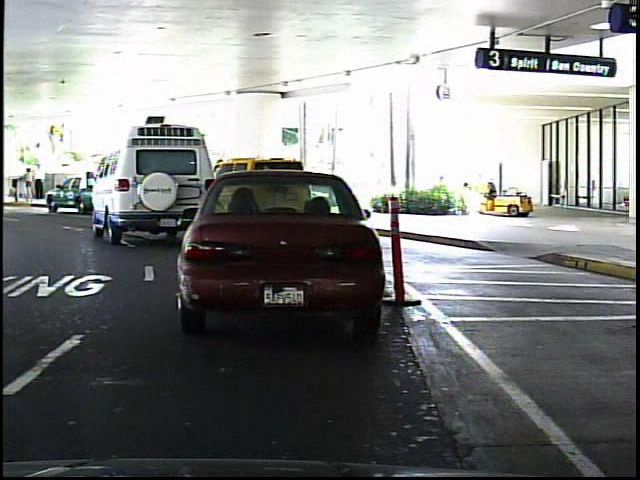person: (21, 166, 38, 205), (34, 161, 48, 201)
